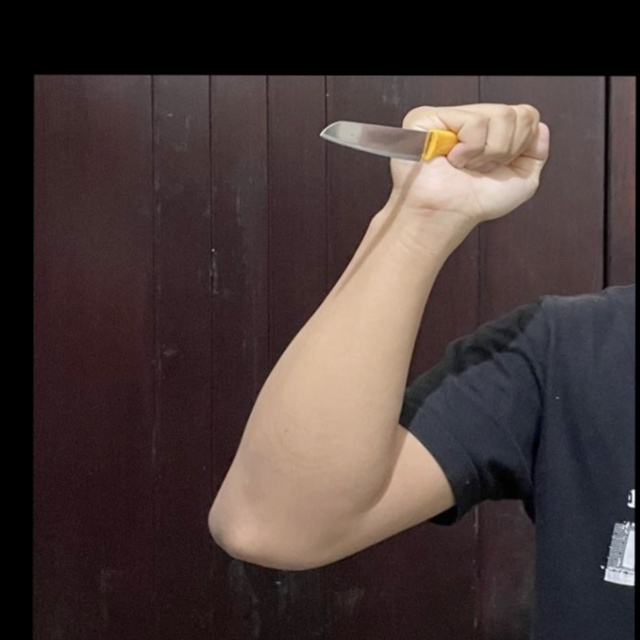Sharp-Object: (316, 119, 458, 164)
